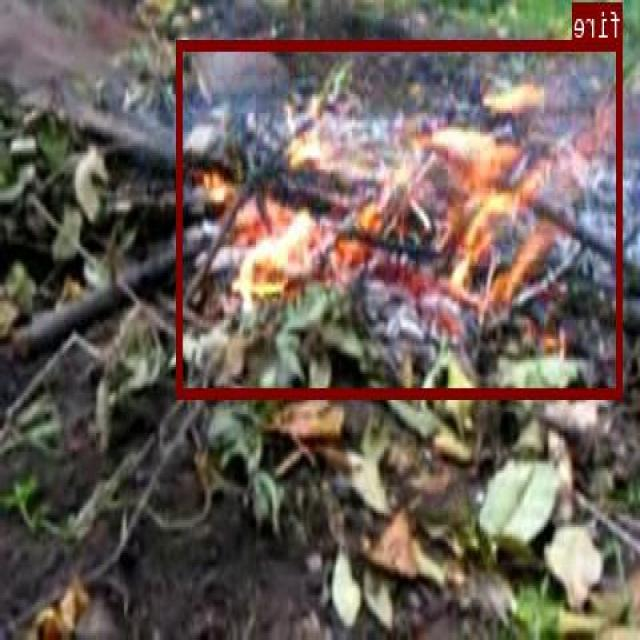fire: (178, 39, 624, 396)
